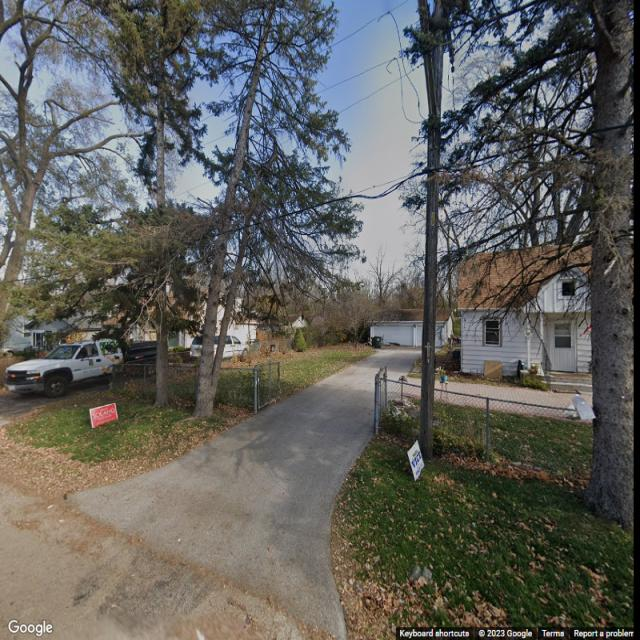House: (459, 242, 591, 392), (139, 276, 261, 358), (0, 292, 104, 350)
